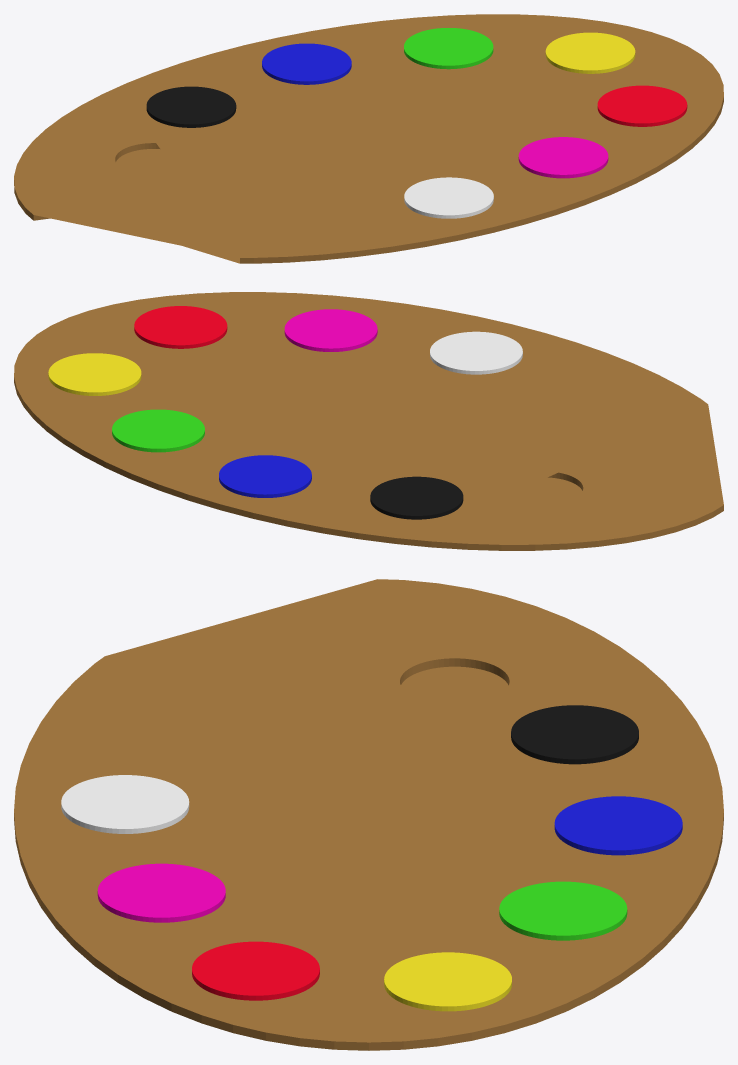
The model's file is pallete 1.fbx.
3 views of the same model, one above another, from view 1: azimuth 30°, elevation 25°; view 2: azimuth 150°, elevation 25°; view 3: azimuth 270°, elevation 25° (orthographic). The views are drawn at different scales.
Visible parts, largest first — view 1: 실린더.015; view 2: 실린더.015; view 3: 실린더.015.
Boxes of the visible parts, x1,y1,x2,y2 form: 실린더.015: (14, 14, 723, 263); 실린더.015: (14, 292, 723, 550); 실린더.015: (14, 579, 723, 1050).
Bounding box in the file's own units: 59964 × 800 × 38827.
